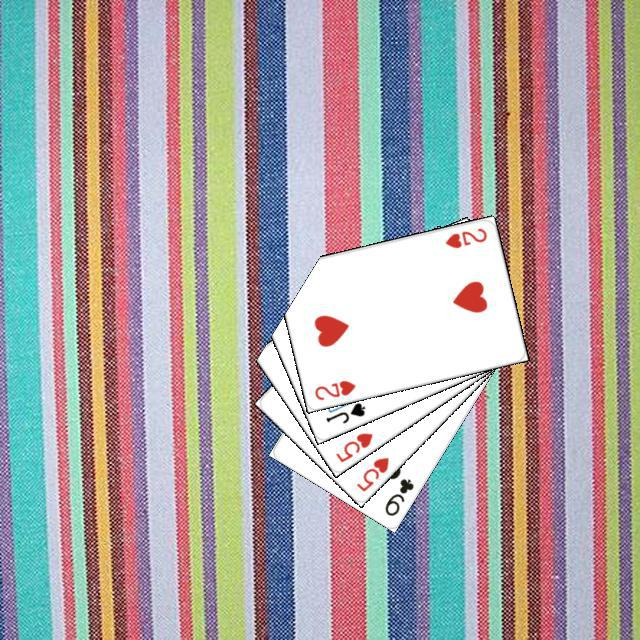2h: (309, 375, 357, 402), (440, 223, 488, 250)
5h: (351, 452, 391, 493), (331, 428, 374, 464)
9c: (379, 473, 415, 518)
Js: (321, 397, 367, 425)
